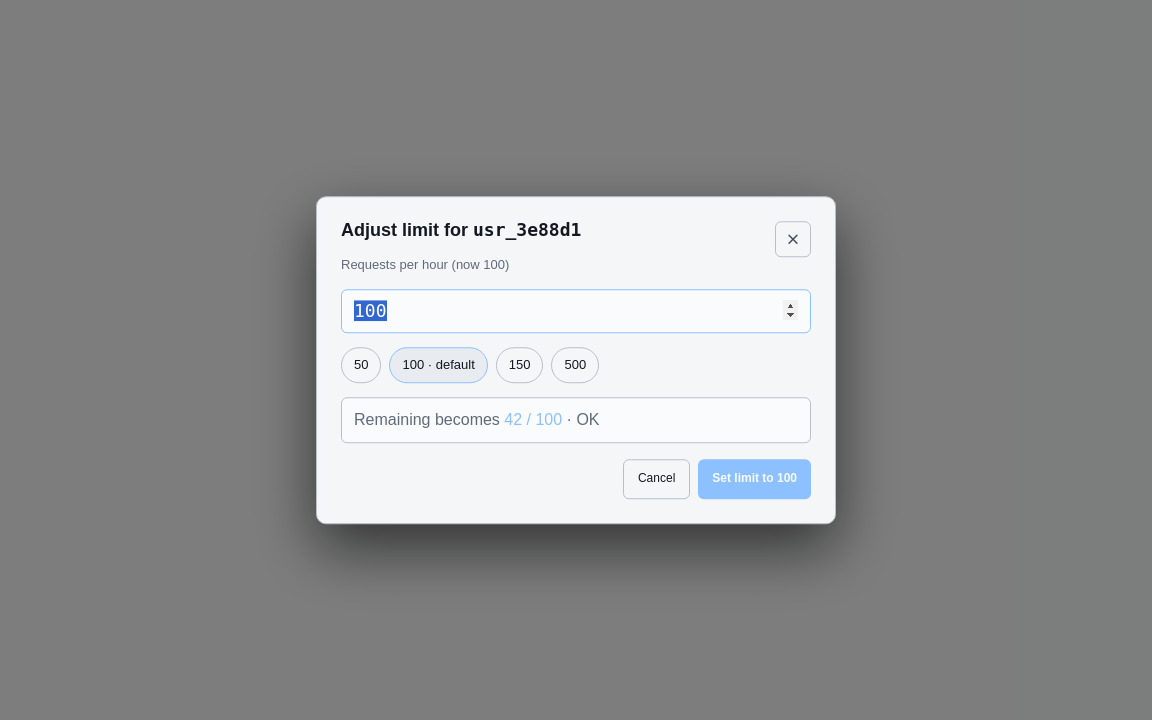
it: AdjustLimitModal › preset buttons update value
Click the button "150": (520, 365) [496,347,544,383]
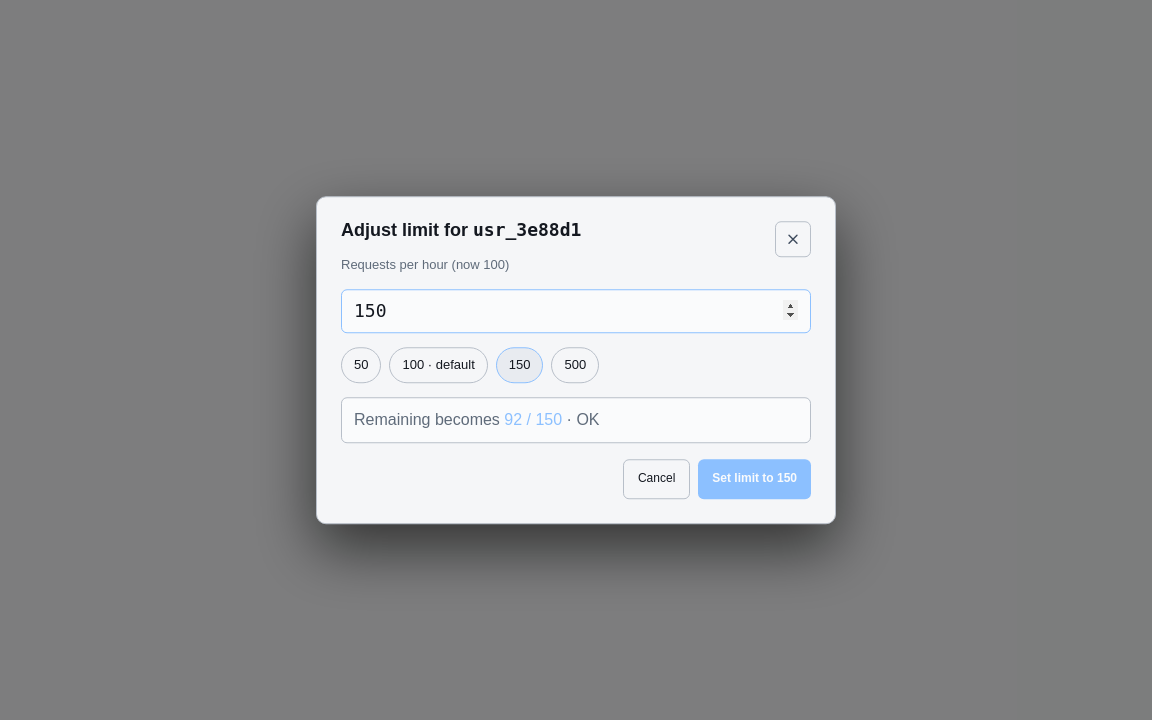
Expected: the number field with test id "limit-input" holds "150", [341,289,811,333]
